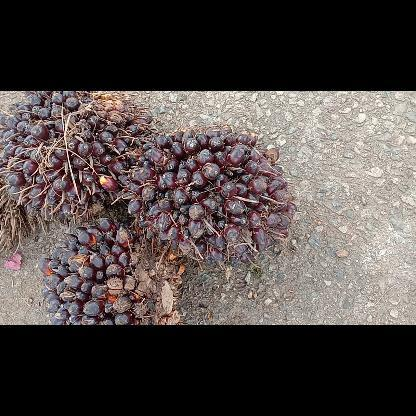TBS mentah: (127, 126, 296, 266), (0, 90, 153, 220), (39, 216, 179, 324)
